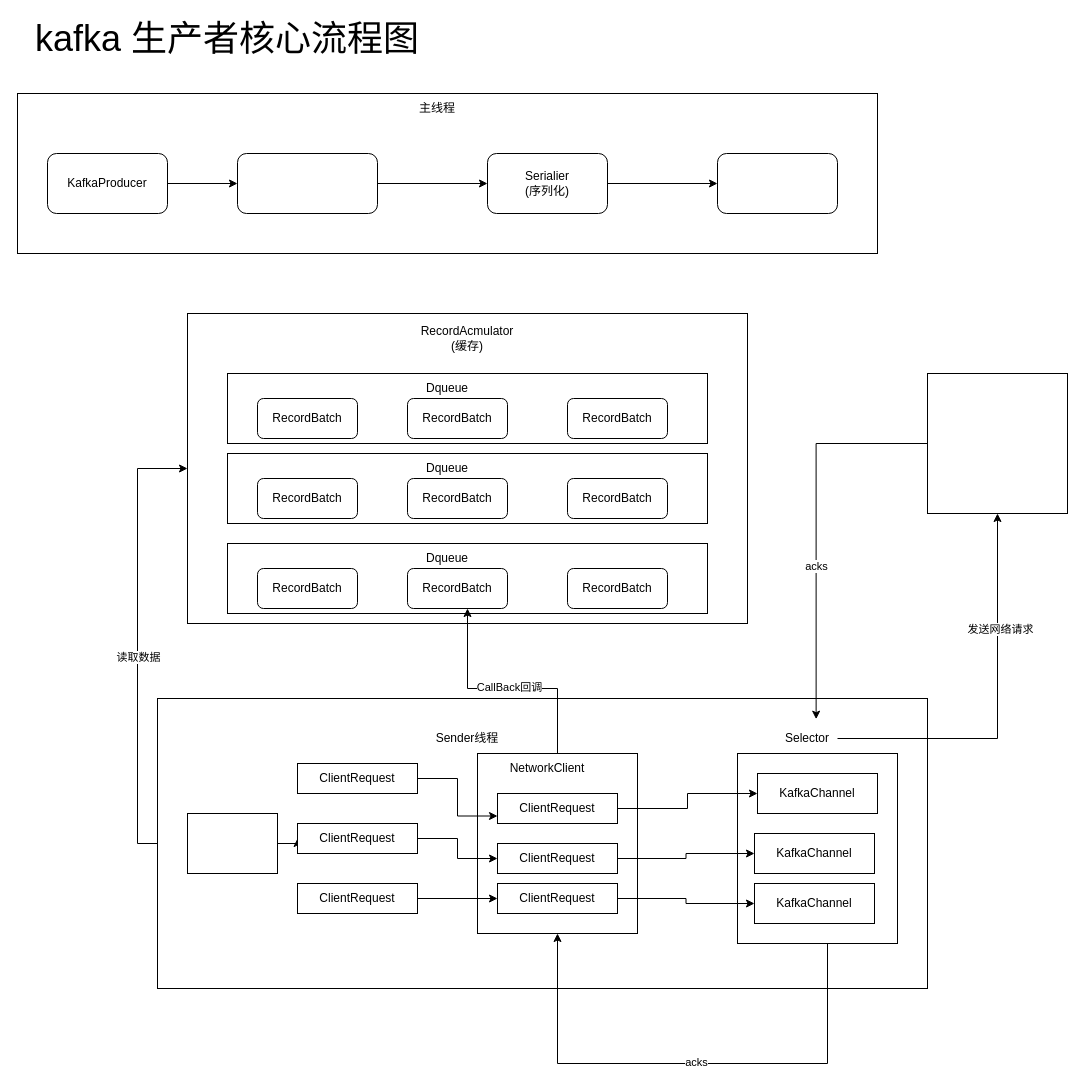
This 1085x1089 diagram has some shape labels left out. Here are the shapes that lost their labels. From the top down, the centre of each, then its label:
At pixel 307 183: "ProducerInterceptors (拦截器)".
At pixel 777 183: "Partitioner (分区器)".
At pixel 997 443: "Kafka集群".
At pixel 232 843: "sender".
